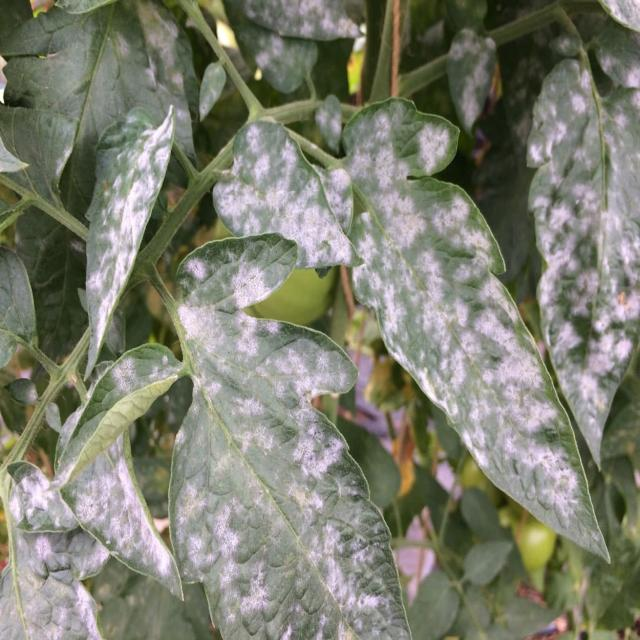Powdery Mildew: (337, 97, 610, 564), (525, 49, 639, 471), (81, 103, 176, 381), (211, 117, 360, 271)
